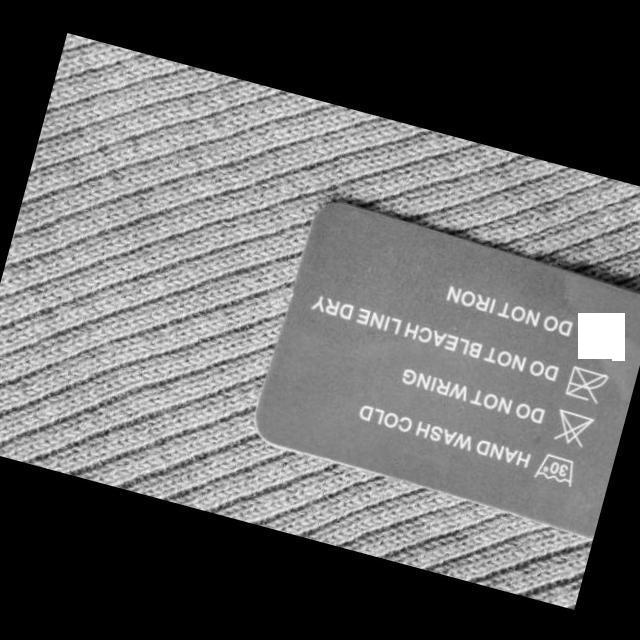30C: (530, 448, 580, 488)
DN_bleach: (547, 402, 597, 452)
DN_iron: (560, 359, 612, 407)
